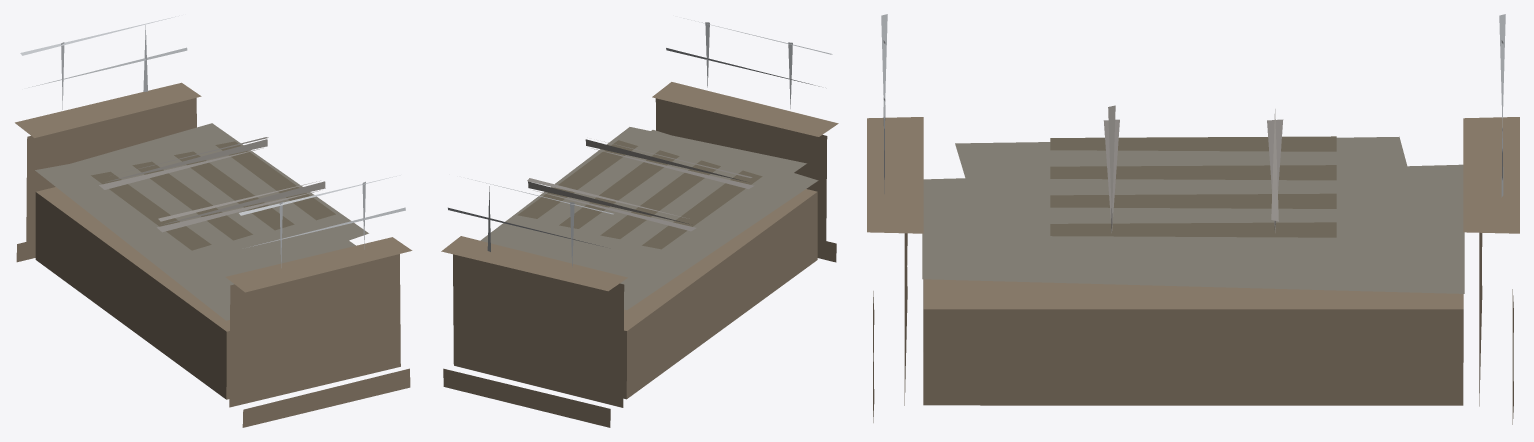
The model's file is rail-bridge-short-lod1.glb.
The picture shows the model from 3 angles, left to right: view 1: azimuth 30°, elevation 25°; view 2: azimuth 150°, elevation 25°; view 3: azimuth 270°, elevation 25°; orthographic projection. The views are drawn at different scales.
Visible parts, largest first — view 1: rail-bridge-short.001; view 2: rail-bridge-short.001; view 3: rail-bridge-short.001.
Part boxes in pixels (bbox=[...]): rail-bridge-short.001: bbox=[15, 15, 412, 427]; rail-bridge-short.001: bbox=[441, 18, 838, 427]; rail-bridge-short.001: bbox=[867, 14, 1519, 424].
Bounding box in the file's own units: 2.57 × 3.06 × 6.02.
